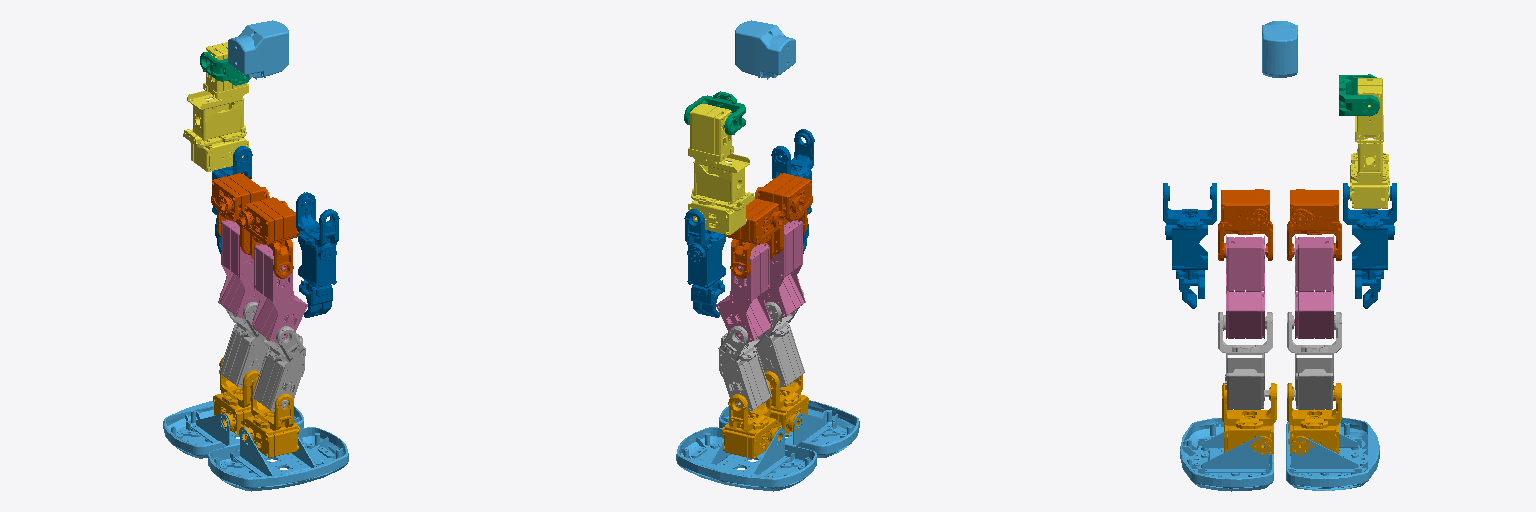
The robot description file, URDF, robot "khr":
<?xml version="1.0"?>
<robot name="khr"
       xmlns:xi="http://www.w3.org/2001/XInclude">
  <link name="BODY">
    <visual>
      <origin xyz="0 0 0" rpy="0 -0 0"/>
      <geometry>
        <mesh filename="mesh/BODY_mesh.stl" scale="1 1 1" />
      </geometry>
    </visual>
    <collision>
      <origin xyz="0 0 0" rpy="0 -0 0"/>
      <geometry>
        <mesh filename="mesh/BODY_mesh.stl" scale="1 1 1" />
      </geometry>
    </collision>
    <inertial>
      <mass value="0.3375" />
      <origin xyz="-0.025246 0 0.017693" rpy="0 -0 0"/>
      <inertia ixx="0.000533" ixy="-9.37957e-07" ixz="3.74586e-05" iyy="0.000507" iyz="8.98787e-07" izz="0.000337"/>
    </inertial>
  </link>
  <link name="HEAD_LINK0">
    <visual>
      <origin xyz="0 0 0.0644" rpy="0 -0 0"/>
      <geometry>
        <mesh filename="mesh/HEAD_LINK0_mesh.stl" scale="1 1 1" />
      </geometry>
    </visual>
    <collision>
      <origin xyz="0 0 0.0644" rpy="0 -0 0"/>
      <geometry>
        <mesh filename="mesh/HEAD_LINK0_mesh.stl" scale="1 1 1" />
      </geometry>
    </collision>
    <inertial>
      <mass value="0.0149" />
      <origin xyz="0.002048 0 0.020747" rpy="0 -0 0"/>
      <inertia ixx="1.89498e-06" ixy="1.75751e-08" ixz="-5.79694e-08" iyy="3.27018e-06" iyz="1.69379e-08" izz="2.44034e-06"/>
    </inertial>
  </link>
  <link name="LARM_LINK0">
    <visual>
      <origin xyz="0.0115 0.049 0.0474" rpy="0 -0 0"/>
      <geometry>
        <mesh filename="mesh/LARM_LINK0_mesh.stl" scale="1 1 1" />
      </geometry>
    </visual>
    <collision>
      <origin xyz="0.0115 0.049 0.0474" rpy="0 -0 0"/>
      <geometry>
        <mesh filename="mesh/LARM_LINK0_mesh.stl" scale="1 1 1" />
      </geometry>
    </collision>
    <inertial>
      <mass value="0.0153" />
      <origin xyz="0 0.014576 0" rpy="0 -0 0"/>
      <inertia ixx="1.64238e-06" ixy="-4.39899e-09" ixz="2.13134e-08" iyy="2.26922e-06" iyz="-3.47822e-09" izz="2.75336e-06"/>
    </inertial>
  </link>
  <link name="LARM_LINK1">
    <visual>
      <origin xyz="0.01975 0.0255 0" rpy="0 -0 0"/>
      <geometry>
        <mesh filename="mesh/LARM_LINK1_mesh.stl" scale="1 1 1" />
      </geometry>
    </visual>
    <collision>
      <origin xyz="0.01975 0.0255 0" rpy="0 -0 0"/>
      <geometry>
        <mesh filename="mesh/LARM_LINK1_mesh.stl" scale="1 1 1" />
      </geometry>
    </collision>
    <inertial>
      <mass value="0.1091" />
      <origin xyz="-0.02697 -0.000148 -0.050609" rpy="0 -0 0"/>
      <inertia ixx="8.95637e-05" ixy="1.2006e-08" ixz="-3.45189e-06" iyy="0.000102" iyz="-4.05043e-07" izz="2.50555e-05"/>
    </inertial>
  </link>
  <link name="LARM_LINK2">
    <visual>
      <origin xyz="-0.0153 -0.0197 -0.0875" rpy="0 -0 0"/>
      <geometry>
        <mesh filename="mesh/LARM_LINK2_mesh.stl" scale="1 1 1" />
      </geometry>
    </visual>
    <collision>
      <origin xyz="-0.0153 -0.0197 -0.0875" rpy="0 -0 0"/>
      <geometry>
        <mesh filename="mesh/LARM_LINK2_mesh.stl" scale="1 1 1" />
      </geometry>
    </collision>
    <inertial>
      <mass value="0.0315" />
      <origin xyz="0.000525 0.019115 -0.039067" rpy="0 -0 0"/>
      <inertia ixx="2.0635e-05" ixy="6.63534e-08" ixz="1.858e-07" iyy="1.94974e-05" iyz="-1.80473e-07" izz="3.50615e-06"/>
    </inertial>
  </link>
  <link name="LLEG_LINK0">
    <visual>
      <origin xyz="0.018517 0.017 -0.06265" rpy="0 -0 0"/>
      <geometry>
        <mesh filename="mesh/LLEG_LINK0_mesh.stl" scale="1 1 1" />
      </geometry>
    </visual>
    <collision>
      <origin xyz="0.018517 0.017 -0.06265" rpy="0 -0 0"/>
      <geometry>
        <mesh filename="mesh/LLEG_LINK0_mesh.stl" scale="1 1 1" />
      </geometry>
    </collision>
    <inertial>
      <mass value="0.0699" />
      <origin xyz="-0.021734 0.011506 -0.014091" rpy="0 -0 0"/>
      <inertia ixx="1.6919e-05" ixy="-8.67462e-08" ixz="-1.21724e-08" iyy="1.58948e-05" iyz="-5.7174e-07" izz="9.6286e-06"/>
    </inertial>
  </link>
  <link name="LLEG_LINK1">
    <visual>
      <origin xyz="-0.0192 -0.00825 -0.0385" rpy="0 -0 0"/>
      <geometry>
        <mesh filename="mesh/LLEG_LINK1_mesh.stl" scale="1 1 1" />
      </geometry>
    </visual>
    <collision>
      <origin xyz="-0.0192 -0.00825 -0.0385" rpy="0 -0 0"/>
      <geometry>
        <mesh filename="mesh/LLEG_LINK1_mesh.stl" scale="1 1 1" />
      </geometry>
    </collision>
    <inertial>
      <mass value="0.1031" />
      <origin xyz="0.002871 0.018978 -0.033258" rpy="0 -0 0"/>
      <inertia ixx="5.51675e-05" ixy="-4.33138e-07" ixz="1.60787e-07" iyy="5.51001e-05" iyz="2.79276e-08" izz="1.42107e-05"/>
    </inertial>
  </link>
  <link name="LLEG_LINK2">
    <visual>
      <origin xyz="0 0 -0.065" rpy="0 -0 0"/>
      <geometry>
        <mesh filename="mesh/LLEG_LINK2_mesh.stl" scale="1 1 1" />
      </geometry>
    </visual>
    <collision>
      <origin xyz="0 0 -0.065" rpy="0 -0 0"/>
      <geometry>
        <mesh filename="mesh/LLEG_LINK2_mesh.stl" scale="1 1 1" />
      </geometry>
    </collision>
    <inertial>
      <mass value="0.0694" />
      <origin xyz="0.003613 0.016674 -0.031461" rpy="0 -0 0"/>
      <inertia ixx="3.675e-05" ixy="-1.69837e-07" ixz="-8.70062e-07" iyy="3.37577e-05" iyz="-1.30046e-07" izz="1.29244e-05"/>
    </inertial>
  </link>
  <link name="LLEG_LINK3">
    <visual>
      <origin xyz="0 0 -0.065" rpy="0 -0 0"/>
      <geometry>
        <mesh filename="mesh/LLEG_LINK3_mesh.stl" scale="1 1 1" />
      </geometry>
    </visual>
    <collision>
      <origin xyz="0 0 -0.065" rpy="0 -0 0"/>
      <geometry>
        <mesh filename="mesh/LLEG_LINK3_mesh.stl" scale="1 1 1" />
      </geometry>
    </collision>
    <inertial>
      <mass value="0.0691" />
      <origin xyz="-0.000386 0.016666 -0.024369" rpy="0 -0 0"/>
      <inertia ixx="1.89725e-05" ixy="-5.30464e-08" ixz="-3.88994e-07" iyy="1.73695e-05" iyz="-1.9347e-08" izz="1.22922e-05"/>
    </inertial>
  </link>
  <link name="LLEG_LINK4">
    <visual>
      <origin xyz="0.019683 0.00825 -0.0385" rpy="0 -0 0"/>
      <geometry>
        <mesh filename="mesh/LLEG_LINK4_mesh.stl" scale="1 1 1" />
      </geometry>
    </visual>
    <collision>
      <origin xyz="0.019683 0.00825 -0.0385" rpy="0 -0 0"/>
      <geometry>
        <mesh filename="mesh/LLEG_LINK4_mesh.stl" scale="1 1 1" />
      </geometry>
    </collision>
    <inertial>
      <mass value="0.0419" />
      <origin xyz="-0.020862 0.020902 -0.013459" rpy="0 -0 0"/>
      <inertia ixx="1.31439e-05" ixy="-3.43305e-09" ixz="-2.13264e-07" iyy="2.75629e-05" iyz="3.99808e-07" izz="3.78492e-05"/>
    </inertial>
  </link>
  <link name="RARM_LINK0">
    <visual>
      <origin xyz="0.0115 -0.049 0.0474" rpy="0 -0 0"/>
      <geometry>
        <mesh filename="mesh/RARM_LINK0_mesh.stl" scale="1 1 1" />
      </geometry>
    </visual>
    <collision>
      <origin xyz="0.0115 -0.049 0.0474" rpy="0 -0 0"/>
      <geometry>
        <mesh filename="mesh/RARM_LINK0_mesh.stl" scale="1 1 1" />
      </geometry>
    </collision>
    <inertial>
      <mass value="0.0153" />
      <origin xyz="0 -0.014576 0" rpy="0 -0 0"/>
      <inertia ixx="1.6763e-06" ixy="-1.67661e-08" ixz="-9.95332e-09" iyy="2.26307e-06" iyz="1.99264e-09" izz="2.74554e-06"/>
    </inertial>
  </link>
  <link name="RARM_LINK1">
    <visual>
      <origin xyz="0.01975 -0.0255 0" rpy="0 -0 0"/>
      <geometry>
        <mesh filename="mesh/RARM_LINK1_mesh.stl" scale="1 1 1" />
      </geometry>
    </visual>
    <collision>
      <origin xyz="0.01975 -0.0255 0" rpy="0 -0 0"/>
      <geometry>
        <mesh filename="mesh/RARM_LINK1_mesh.stl" scale="1 1 1" />
      </geometry>
    </collision>
    <inertial>
      <mass value="0.1091" />
      <origin xyz="-0.02697 0.000148 -0.050609" rpy="0 -0 0"/>
      <inertia ixx="8.20245e-05" ixy="1.68637e-07" ixz="-2.81184e-06" iyy="9.30071e-05" iyz="1.00412e-06" izz="2.32264e-05"/>
    </inertial>
  </link>
  <link name="RARM_LINK2">
    <visual>
      <origin xyz="-0.0153 0.0197 -0.0875" rpy="0 -0 0"/>
      <geometry>
        <mesh filename="mesh/RARM_LINK2_mesh.stl" scale="1 1 1" />
      </geometry>
    </visual>
    <collision>
      <origin xyz="-0.0153 0.0197 -0.0875" rpy="0 -0 0"/>
      <geometry>
        <mesh filename="mesh/RARM_LINK2_mesh.stl" scale="1 1 1" />
      </geometry>
    </collision>
    <inertial>
      <mass value="0.0315" />
      <origin xyz="0.000525 -0.019115 -0.039067" rpy="0 -0 0"/>
      <inertia ixx="2.01586e-05" ixy="-1.18985e-07" ixz="7.55844e-08" iyy="1.8365e-05" iyz="5.07189e-07" izz="4.02757e-06"/>
    </inertial>
  </link>
  <link name="RLEG_LINK0">
    <visual>
      <origin xyz="0.018517 -0.017 -0.06265" rpy="0 -0 0"/>
      <geometry>
        <mesh filename="mesh/RLEG_LINK0_mesh.stl" scale="1 1 1" />
      </geometry>
    </visual>
    <collision>
      <origin xyz="0.018517 -0.017 -0.06265" rpy="0 -0 0"/>
      <geometry>
        <mesh filename="mesh/RLEG_LINK0_mesh.stl" scale="1 1 1" />
      </geometry>
    </collision>
    <inertial>
      <mass value="0.0699" />
      <origin xyz="-0.021734 -0.011506 -0.014091" rpy="0 -0 0"/>
      <inertia ixx="1.67706e-05" ixy="3.09063e-07" ixz="-9.06368e-08" iyy="1.59351e-05" iyz="-1.85881e-07" izz="8.90141e-06"/>
    </inertial>
  </link>
  <link name="RLEG_LINK1">
    <visual>
      <origin xyz="-0.0192 0.00825 -0.0385" rpy="0 -0 0"/>
      <geometry>
        <mesh filename="mesh/RLEG_LINK1_mesh.stl" scale="1 1 1" />
      </geometry>
    </visual>
    <collision>
      <origin xyz="-0.0192 0.00825 -0.0385" rpy="0 -0 0"/>
      <geometry>
        <mesh filename="mesh/RLEG_LINK1_mesh.stl" scale="1 1 1" />
      </geometry>
    </collision>
    <inertial>
      <mass value="0.1031" />
      <origin xyz="0.002871 -0.018978 -0.033258" rpy="0 -0 0"/>
      <inertia ixx="5.53682e-05" ixy="1.79727e-07" ixz="1.50432e-07" iyy="5.49684e-05" iyz="-1.26323e-07" izz="1.5723e-05"/>
    </inertial>
  </link>
  <link name="RLEG_LINK2">
    <visual>
      <origin xyz="0 0 -0.065" rpy="0 -0 0"/>
      <geometry>
        <mesh filename="mesh/RLEG_LINK2_mesh.stl" scale="1 1 1" />
      </geometry>
    </visual>
    <collision>
      <origin xyz="0 0 -0.065" rpy="0 -0 0"/>
      <geometry>
        <mesh filename="mesh/RLEG_LINK2_mesh.stl" scale="1 1 1" />
      </geometry>
    </collision>
    <inertial>
      <mass value="0.0694" />
      <origin xyz="0.003613 -0.016674 -0.031461" rpy="0 -0 0"/>
      <inertia ixx="3.88163e-05" ixy="-4.03699e-09" ixz="-8.68336e-07" iyy="3.51562e-05" iyz="-8.44442e-08" izz="1.3848e-05"/>
    </inertial>
  </link>
  <link name="RLEG_LINK3">
    <visual>
      <origin xyz="0 0 -0.065" rpy="0 -0 0"/>
      <geometry>
        <mesh filename="mesh/RLEG_LINK3_mesh.stl" scale="1 1 1" />
      </geometry>
    </visual>
    <collision>
      <origin xyz="0 0 -0.065" rpy="0 -0 0"/>
      <geometry>
        <mesh filename="mesh/RLEG_LINK3_mesh.stl" scale="1 1 1" />
      </geometry>
    </collision>
    <inertial>
      <mass value="0.0691" />
      <origin xyz="-0.000386 -0.016666 -0.024369" rpy="0 -0 0"/>
      <inertia ixx="2.07911e-05" ixy="-1.95431e-07" ixz="9.83503e-08" iyy="1.81828e-05" iyz="8.03039e-08" izz="1.18297e-05"/>
    </inertial>
  </link>
  <link name="RLEG_LINK4">
    <visual>
      <origin xyz="0.019683 -0.00825 -0.0385" rpy="0 -0 0"/>
      <geometry>
        <mesh filename="mesh/RLEG_LINK4_mesh.stl" scale="1 1 1" />
      </geometry>
    </visual>
    <collision>
      <origin xyz="0.019683 -0.00825 -0.0385" rpy="0 -0 0"/>
      <geometry>
        <mesh filename="mesh/RLEG_LINK4_mesh.stl" scale="1 1 1" />
      </geometry>
    </collision>
    <inertial>
      <mass value="0.0419" />
      <origin xyz="-0.020862 -0.020902 -0.013459" rpy="0 -0 0"/>
      <inertia ixx="1.24417e-05" ixy="-6.00499e-07" ixz="1.04282e-07" iyy="3.00021e-05" iyz="-5.79267e-07" izz="3.92743e-05"/>
    </inertial>
  </link>
  <joint name="HEAD_JOINT0" type="fixed">
    <parent link="BODY"/>
    <child  link="HEAD_LINK0"/>
    <origin xyz="0 0 0.0644" rpy="0 -0 0 "/>
    <axis   xyz="0 0 1"/>
    <limit lower="-1.5708" upper="1.5708" effort="0.005" velocity="1.0" />
    <dynamics damping="0.2" friction="0" />
  </joint>
  <joint name="LARM_JOINT0" type="revolute">
    <parent link="BODY"/>
    <child  link="LARM_LINK0"/>
    <origin xyz="0.0115 0.049 0.0474" rpy="0 -0 0 "/>
    <axis   xyz="0 1 0"/>
    <limit lower="-1.5708" upper="1.5708" effort="0.005" velocity="1.0" />
    <dynamics damping="0.2" friction="0" />
  </joint>
  <joint name="LARM_JOINT1" type="revolute">
    <parent link="LARM_LINK0"/>
    <child  link="LARM_LINK1"/>
    <origin xyz="0.01975 0.0255 0" rpy="0 -0 0 "/>
    <axis   xyz="1 0 0"/>
    <limit lower="-1.5708" upper="1.5708" effort="0.005" velocity="1.0" />
    <dynamics damping="0.2" friction="0" />
  </joint>
  <joint name="LARM_JOINT2" type="revolute">
    <parent link="LARM_LINK1"/>
    <child  link="LARM_LINK2"/>
    <origin xyz="-0.0153 -0.0197 -0.0875" rpy="0 -0 0 "/>
    <axis   xyz="0 1 0"/>
    <limit lower="-1.5708" upper="1.5708" effort="0.005" velocity="1.0" />
    <dynamics damping="0.2" friction="0" />
  </joint>
  <joint name="LLEG_JOINT0" type="revolute">
    <parent link="BODY"/>
    <child  link="LLEG_LINK0"/>
    <origin xyz="0.018517 0.017 -0.06265" rpy="0 -0 0 "/>
    <axis   xyz="1 0 0"/>
    <limit lower="-1.5708" upper="1.5708" effort="0.005" velocity="1.0" />
    <dynamics damping="0.2" friction="0" />
  </joint>
  <joint name="LLEG_JOINT1" type="revolute">
    <parent link="LLEG_LINK0"/>
    <child  link="LLEG_LINK1"/>
    <origin xyz="-0.0192 -0.00825 -0.0385" rpy="0 -0 0 "/>
    <axis   xyz="0 1 0"/>
    <limit lower="-1.5708" upper="1.5708" effort="0.005" velocity="1.0" />
    <dynamics damping="0.2" friction="0" />
  </joint>
  <joint name="LLEG_JOINT2" type="revolute">
    <parent link="LLEG_LINK1"/>
    <child  link="LLEG_LINK2"/>
    <origin xyz="0 0 -0.065" rpy="0 -0 0 "/>
    <axis   xyz="0 1 0"/>
    <limit lower="-1.5708" upper="1.5708" effort="0.005" velocity="1.0" />
    <dynamics damping="0.2" friction="0" />
  </joint>
  <joint name="LLEG_JOINT3" type="revolute">
    <parent link="LLEG_LINK2"/>
    <child  link="LLEG_LINK3"/>
    <origin xyz="0 0 -0.065" rpy="0 -0 0 "/>
    <axis   xyz="0 1 0"/>
    <limit lower="-1.5708" upper="1.5708" effort="0.005" velocity="1.0" />
    <dynamics damping="0.2" friction="0" />
  </joint>
  <joint name="LLEG_JOINT4" type="revolute">
    <parent link="LLEG_LINK3"/>
    <child  link="LLEG_LINK4"/>
    <origin xyz="0.019683 0.00825 -0.0385" rpy="0 -0 0 "/>
    <axis   xyz="1 0 0"/>
    <limit lower="-1.5708" upper="1.5708" effort="0.005" velocity="1.0" />
    <dynamics damping="0.2" friction="0" />
  </joint>
  <joint name="RARM_JOINT0" type="revolute">
    <parent link="BODY"/>
    <child  link="RARM_LINK0"/>
    <origin xyz="0.0115 -0.049 0.0474" rpy="0 -0 0 "/>
    <axis   xyz="0 1 0"/>
    <limit lower="-1.5708" upper="1.5708" effort="0.005" velocity="1.0" />
    <dynamics damping="0.2" friction="0" />
  </joint>
  <joint name="RARM_JOINT1" type="revolute">
    <parent link="RARM_LINK0"/>
    <child  link="RARM_LINK1"/>
    <origin xyz="0.01975 -0.0255 0" rpy="0 -0 0 "/>
    <axis   xyz="1 0 0"/>
    <limit lower="-1.5708" upper="1.5708" effort="0.005" velocity="1.0" />
    <dynamics damping="0.2" friction="0" />
  </joint>
  <joint name="RARM_JOINT2" type="revolute">
    <parent link="RARM_LINK1"/>
    <child  link="RARM_LINK2"/>
    <origin xyz="-0.0153 0.0197 -0.0875" rpy="0 -0 0 "/>
    <axis   xyz="0 1 0"/>
    <limit lower="-1.5708" upper="1.5708" effort="0.005" velocity="1.0" />
    <dynamics damping="0.2" friction="0" />
  </joint>
  <joint name="RLEG_JOINT0" type="revolute">
    <parent link="BODY"/>
    <child  link="RLEG_LINK0"/>
    <origin xyz="0.018517 -0.017 -0.06265" rpy="0 -0 0 "/>
    <axis   xyz="1 0 0"/>
    <limit lower="-1.5708" upper="1.5708" effort="0.005" velocity="1.0" />
    <dynamics damping="0.2" friction="0" />
  </joint>
  <joint name="RLEG_JOINT1" type="revolute">
    <parent link="RLEG_LINK0"/>
    <child  link="RLEG_LINK1"/>
    <origin xyz="-0.0192 0.00825 -0.0385" rpy="0 -0 0 "/>
    <axis   xyz="0 1 0"/>
    <limit lower="-1.5708" upper="1.5708" effort="0.005" velocity="1.0" />
    <dynamics damping="0.2" friction="0" />
  </joint>
  <joint name="RLEG_JOINT2" type="revolute">
    <parent link="RLEG_LINK1"/>
    <child  link="RLEG_LINK2"/>
    <origin xyz="0 0 -0.065" rpy="0 -0 0 "/>
    <axis   xyz="0 1 0"/>
    <limit lower="-1.5708" upper="1.5708" effort="0.005" velocity="1.0" />
    <dynamics damping="0.2" friction="0" />
  </joint>
  <joint name="RLEG_JOINT3" type="revolute">
    <parent link="RLEG_LINK2"/>
    <child  link="RLEG_LINK3"/>
    <origin xyz="0 0 -0.065" rpy="0 -0 0 "/>
    <axis   xyz="0 1 0"/>
    <limit lower="-1.5708" upper="1.5708" effort="0.005" velocity="1.0" />
    <dynamics damping="0.2" friction="0" />
  </joint>
  <joint name="RLEG_JOINT4" type="revolute">
    <parent link="RLEG_LINK3"/>
    <child  link="RLEG_LINK4"/>
    <origin xyz="0.019683 -0.00825 -0.0385" rpy="0 -0 0 "/>
    <axis   xyz="1 0 0"/>
    <limit lower="-1.5708" upper="1.5708" effort="0.005" velocity="1.0" />
    <dynamics damping="0.2" friction="0" />
  </joint>
</robot>

--- Facts derived from the render (not from the file) ---
The picture shows the robot from 3 angles, left to right: view 1: azimuth 30°, elevation 25°; view 2: azimuth 150°, elevation 25°; view 3: azimuth 270°, elevation 25°; orthographic projection.
Robot: khr — 18 links, 17 joints (16 revolute, 1 fixed); root link BODY; default pose: every joint at zero.
Links seen in each view (by area): view 1: RLEG_LINK4, LARM_LINK1, RARM_LINK2, RLEG_LINK1, LLEG_LINK4, RLEG_LINK0, RLEG_LINK2, HEAD_LINK0, RLEG_LINK3, LLEG_LINK1, LLEG_LINK2, LLEG_LINK0 (+3 smaller); view 2: LARM_LINK1, LLEG_LINK4, LARM_LINK2, LLEG_LINK1, RLEG_LINK4, LLEG_LINK2, HEAD_LINK0, LLEG_LINK3, RLEG_LINK1, LLEG_LINK0, RLEG_LINK2, RLEG_LINK0 (+3 smaller); view 3: RLEG_LINK4, LLEG_LINK4, LLEG_LINK1, RLEG_LINK1, LARM_LINK1, LARM_LINK2, RARM_LINK2, RLEG_LINK2, LLEG_LINK2, LLEG_LINK0, RLEG_LINK0, LLEG_LINK3 (+3 smaller).
Boxes of the visible links, box(x1,y1,x2,y2) form: RLEG_LINK4: box(208, 427, 348, 491); LARM_LINK1: box(183, 42, 248, 171); RARM_LINK2: box(296, 192, 339, 317); RLEG_LINK1: box(251, 244, 307, 343); LLEG_LINK4: box(163, 401, 303, 458); RLEG_LINK0: box(239, 197, 298, 278); RLEG_LINK2: box(252, 315, 305, 411); HEAD_LINK0: box(228, 20, 288, 79); RLEG_LINK3: box(239, 377, 299, 457); LLEG_LINK1: box(218, 220, 259, 318); LLEG_LINK2: box(219, 291, 267, 387); LLEG_LINK0: box(211, 173, 269, 254); LARM_LINK1: box(688, 104, 754, 234); LLEG_LINK4: box(676, 427, 816, 491); LARM_LINK2: box(684, 209, 725, 317); LLEG_LINK1: box(716, 244, 772, 342); RLEG_LINK4: box(719, 400, 859, 457); LLEG_LINK2: box(718, 315, 771, 411); HEAD_LINK0: box(735, 20, 795, 79); LLEG_LINK3: box(722, 380, 781, 458); RLEG_LINK1: box(764, 220, 805, 318); LLEG_LINK0: box(726, 198, 784, 278); RLEG_LINK2: box(755, 290, 804, 387); RLEG_LINK0: box(755, 173, 812, 254); RLEG_LINK4: box(1180, 418, 1273, 491); LLEG_LINK4: box(1286, 417, 1379, 490); LLEG_LINK1: box(1292, 236, 1333, 338); RLEG_LINK1: box(1226, 236, 1267, 338); LARM_LINK1: box(1350, 78, 1389, 208); LARM_LINK2: box(1343, 183, 1396, 308); RARM_LINK2: box(1163, 183, 1216, 308); RLEG_LINK2: box(1218, 312, 1272, 409); LLEG_LINK2: box(1287, 312, 1341, 409); LLEG_LINK0: box(1287, 189, 1341, 260); RLEG_LINK0: box(1218, 189, 1272, 260); LLEG_LINK3: box(1287, 383, 1341, 454).
Size in the robot's own frame: 0.1228 by 0.1946 by 0.4011 metres.
Meshes: 18 distinct files referenced, 15 mesh visuals loaded (15 binary STL); not drawn: 3 (reference not matched to a file when rendering).